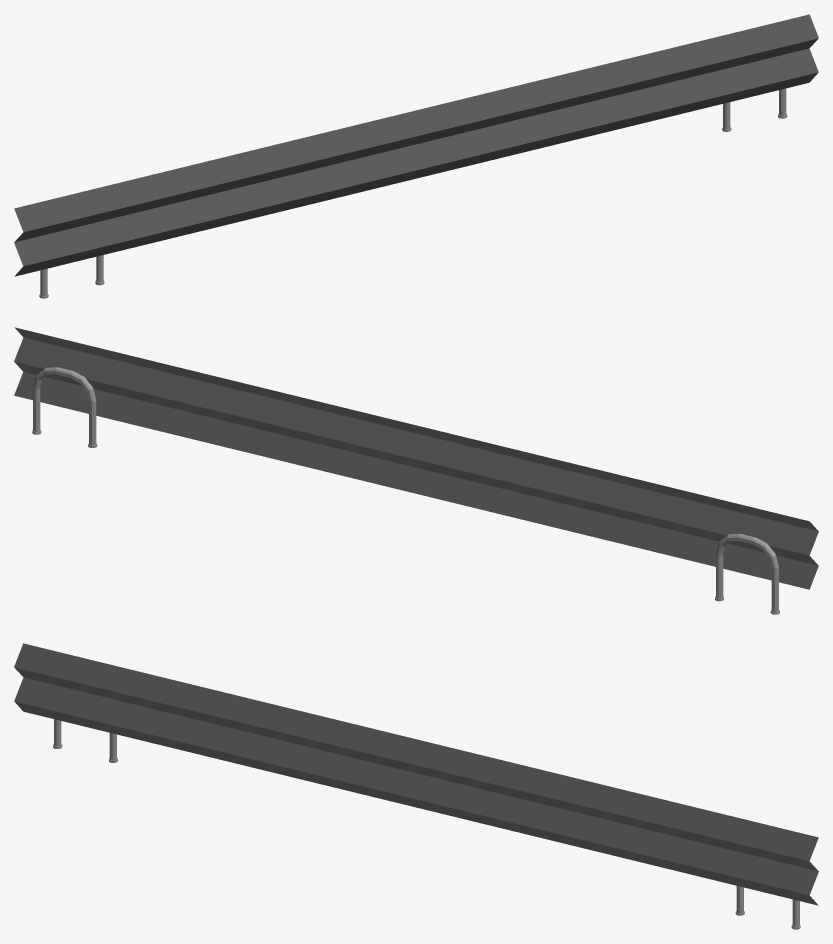
Rendered from Guard_rail_road.fbx.
3 views of the same model, one above another, from view 1: azimuth 30°, elevation 25°; view 2: azimuth 150°, elevation 25°; view 3: azimuth 330°, elevation 25° (orthographic).
Parts seen in each view (by area): view 1: Guard rail road; view 2: Guard rail road; view 3: Guard rail road.
Part boxes in pixels (x1,y1,x2,y2): Guard rail road: [14, 14, 818, 298]; Guard rail road: [14, 327, 818, 614]; Guard rail road: [14, 643, 818, 929].
Bounding box in the file's own units: 995 × 117 × 29.79.
